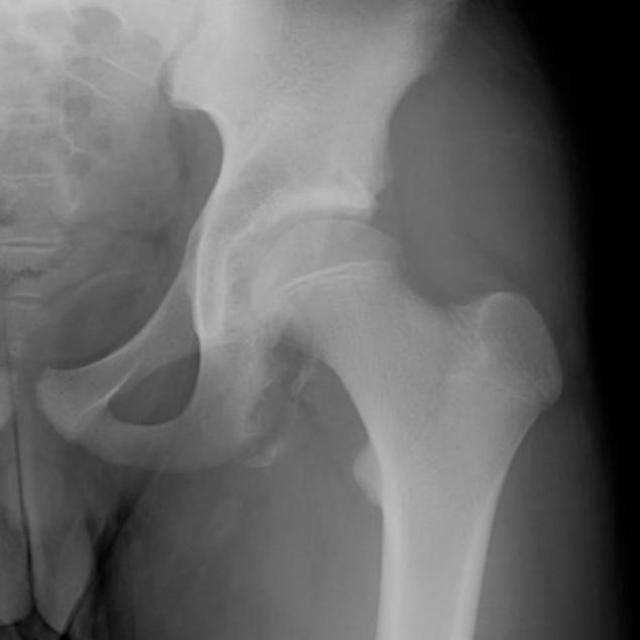Avulsion-fracture-: (216, 279, 330, 463)
